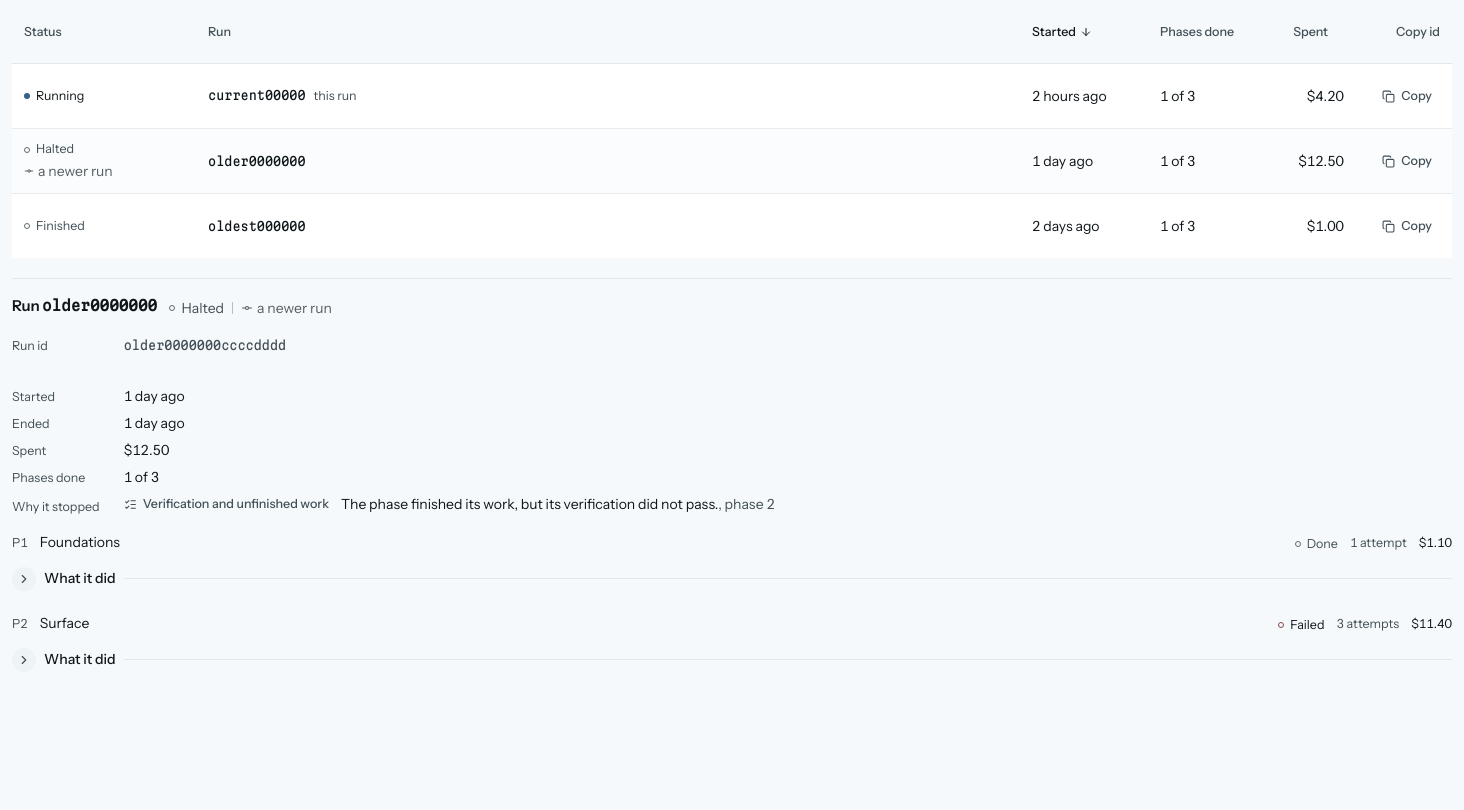
it: <RunHistoryView> › H-4 opening a phase reads THAT run’s report and activity, and draws what they answer
Click the button "What it did" below "Surface". click: click(80, 659)
box: [12,638,1452,682]
(page scrolled)
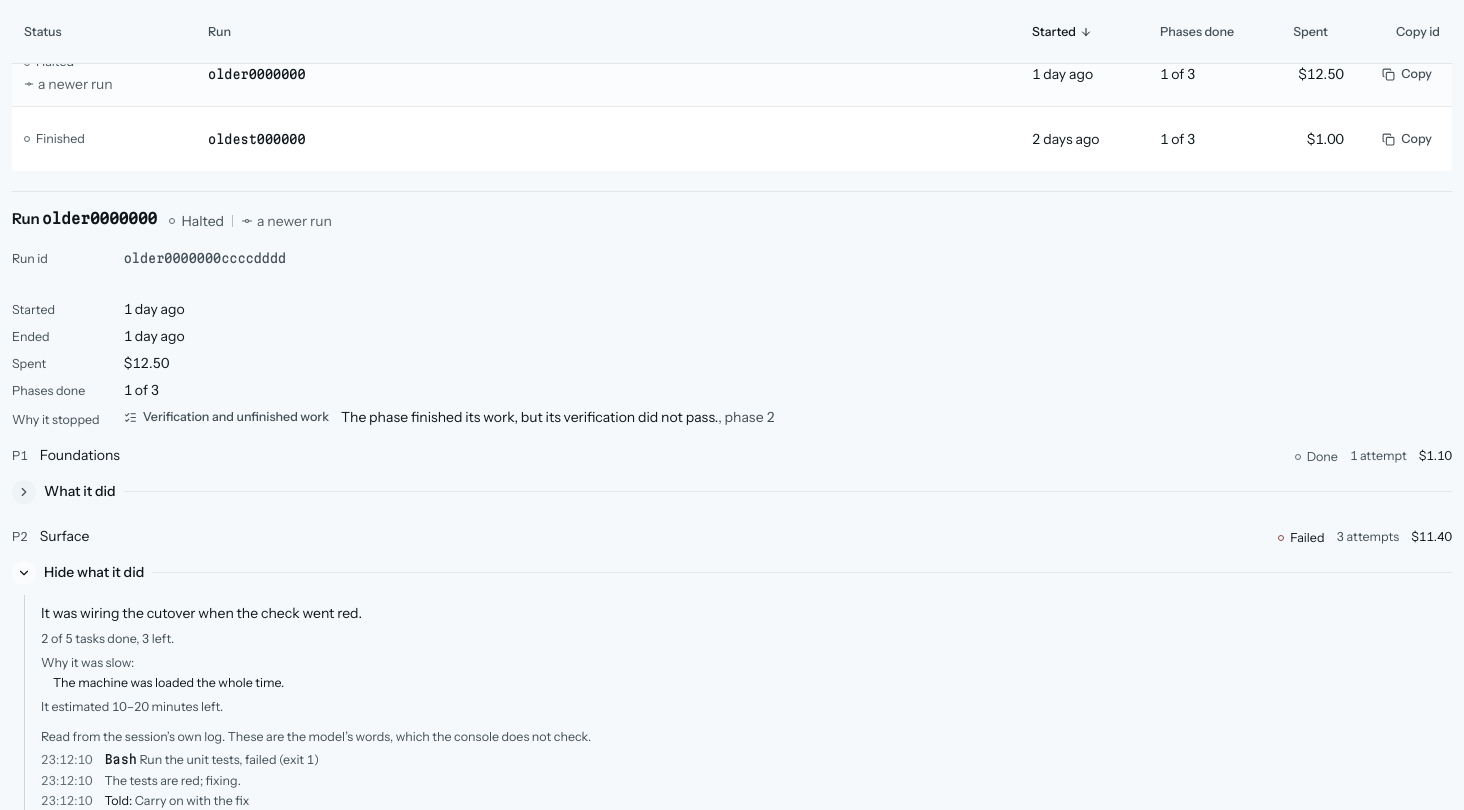
expect the element with test id "history-report" shows "It was wiring the cutover when the check went red.": met, box [41,604,362,622]
expect the element with test id "history-report" shows "2 of 5 tasks done, 3 left.": met, box [41,631,174,646]
expect the list item "The machine was loaded the whole time." is shown: met, box [53,675,284,690]
